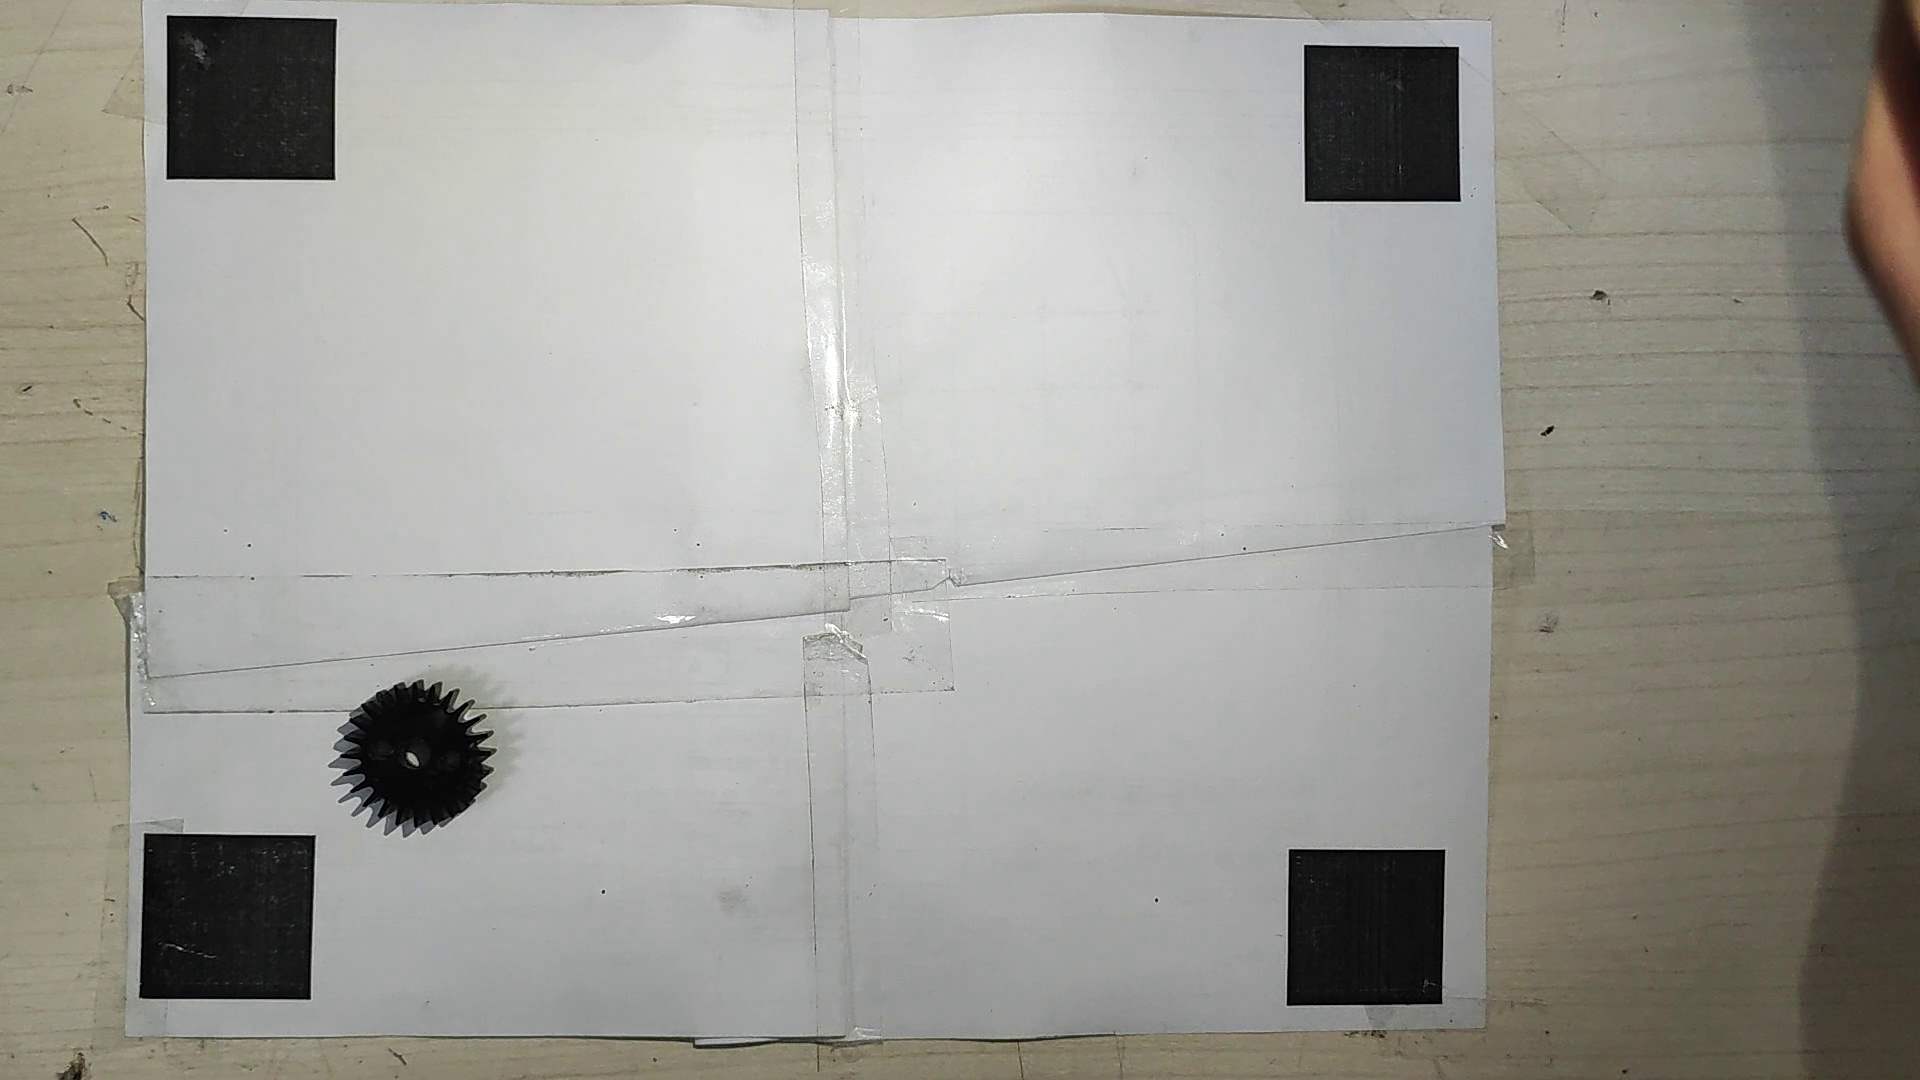Gear: (327, 671, 498, 841)
